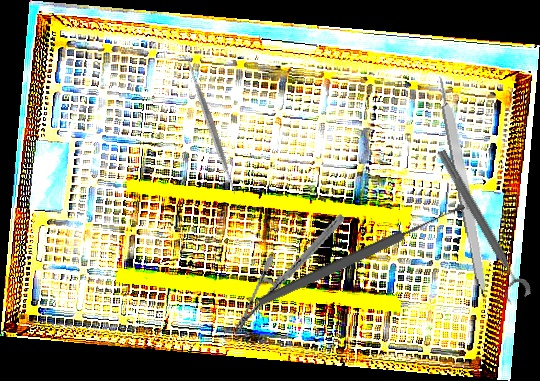Fixation Ring: (424, 146, 534, 307)
Needle Holder: (233, 195, 346, 351)
Scalpel Handle: (435, 73, 493, 298)
Spatula Surgical: (137, 53, 286, 202)
Surgical Spoon: (256, 200, 468, 309)
